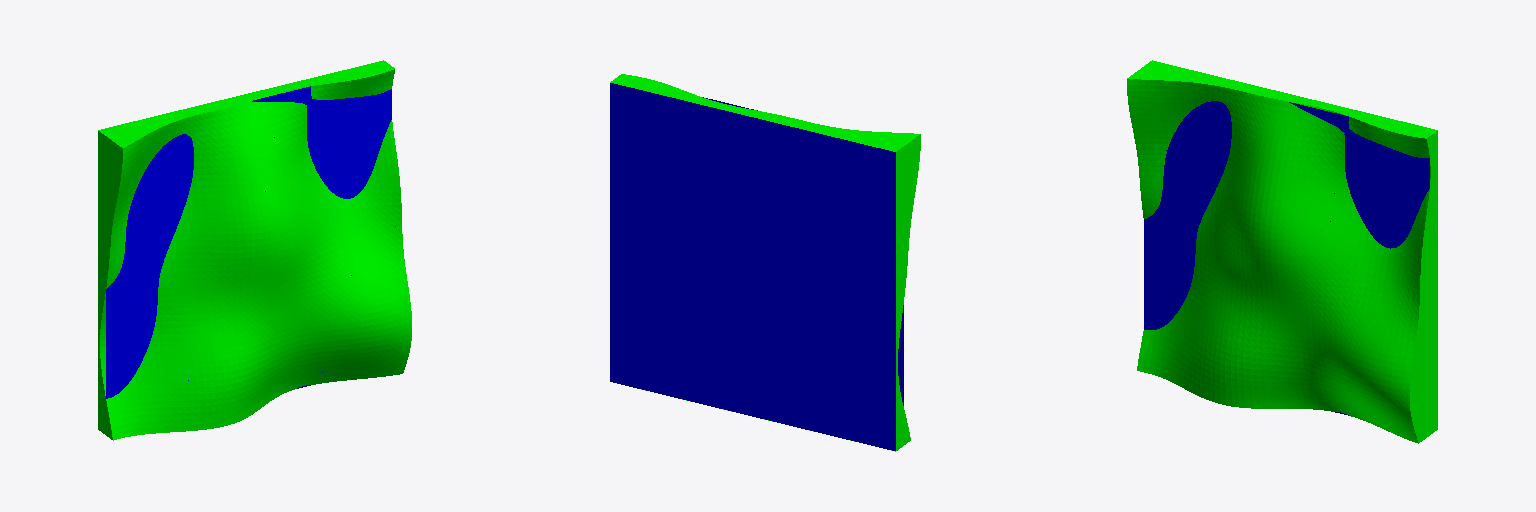
File: terrain.obj
The picture shows the model from 3 angles: view 1: azimuth 30°, elevation 25°; view 2: azimuth 150°, elevation 25°; view 3: azimuth 330°, elevation 25°; orthographic projection.
Bounding box in the file's own units: 50 × 50 × 9.13.